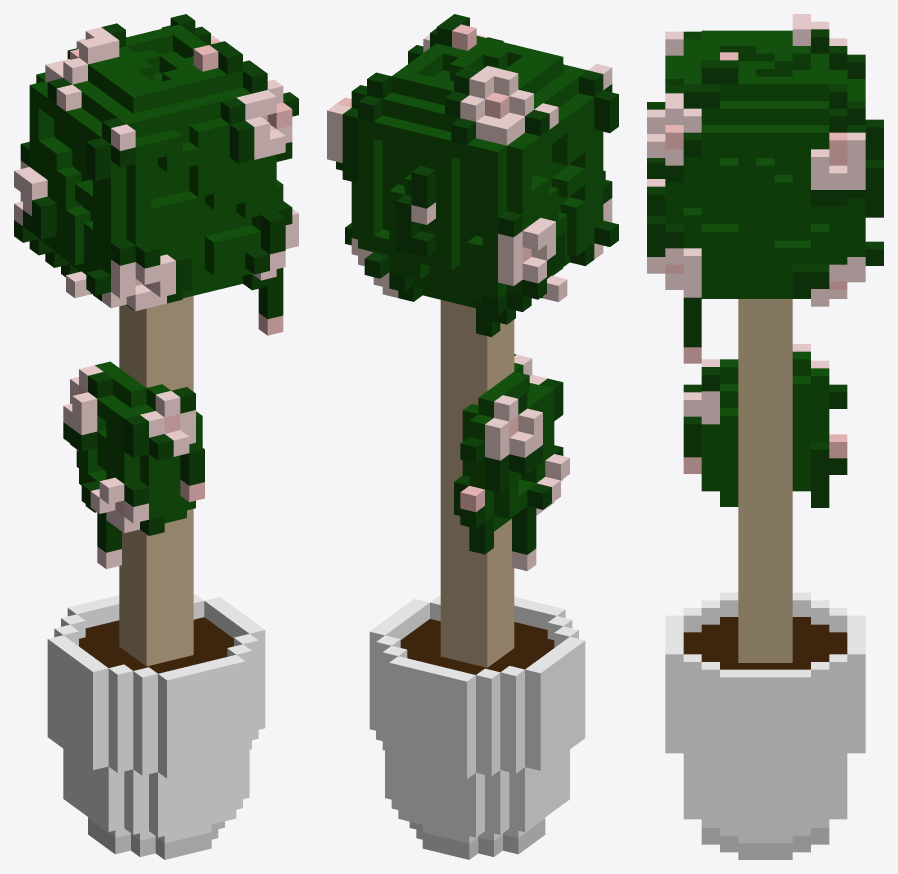
The model's file is Tall Pot Plant.obj.
3 renders of one model, left to right at view 1: azimuth 30°, elevation 25°; view 2: azimuth 150°, elevation 25°; view 3: azimuth 270°, elevation 25°, orthographic.
Bounding box in the file's own units: 1.3 × 4.8 × 1.3.
Materials: 1 (1 with a texture image).
